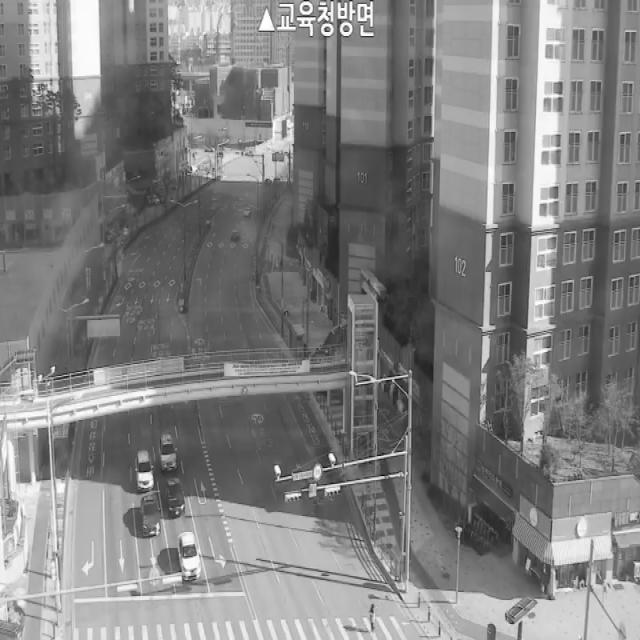Car: (178, 532, 201, 580), (141, 494, 161, 537), (134, 450, 154, 491), (166, 478, 185, 518), (159, 433, 177, 474), (230, 230, 240, 240), (243, 207, 251, 217)
